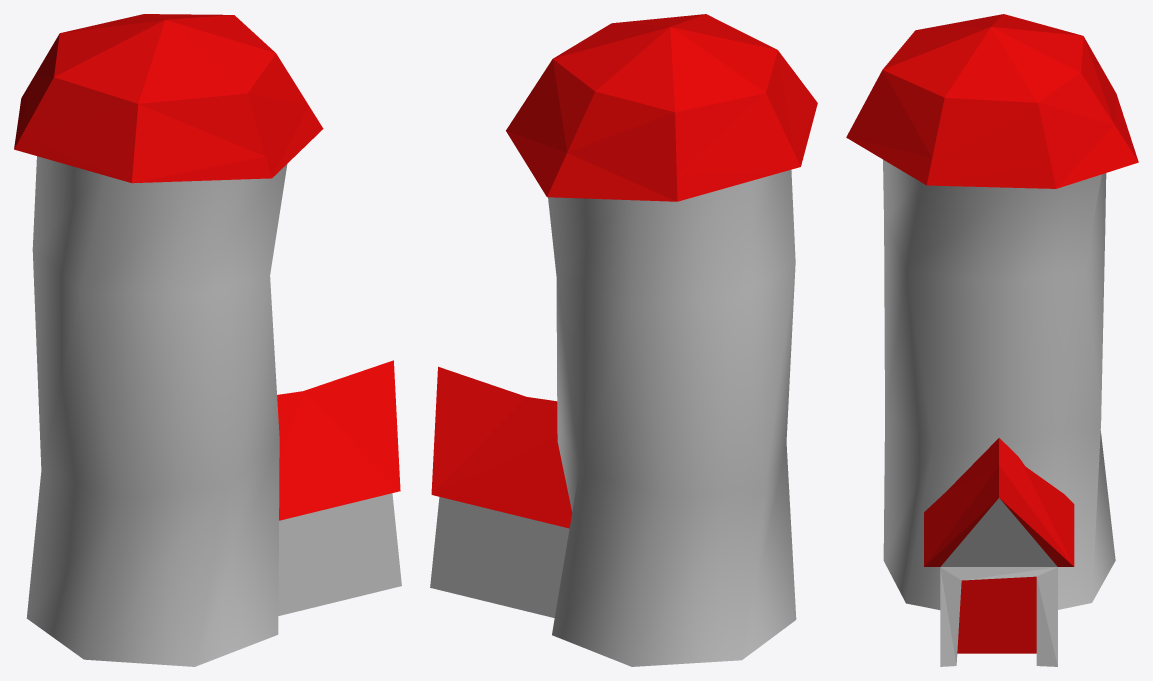
Rendered from Silo.fbx.
The picture shows the model from 3 angles, left to right: view 1: azimuth 30°, elevation 25°; view 2: azimuth 150°, elevation 25°; view 3: azimuth 270°, elevation 25°; orthographic projection. The views are drawn at different scales.
Parts seen in each view (by area): view 1: Silo; view 2: Silo; view 3: Silo.
Part boxes in pixels (box(x1,y1,x2,y2)): Silo: box(14, 14, 401, 666); Silo: box(430, 14, 817, 666); Silo: box(846, 14, 1138, 666).
Bounding box in the file's own units: 16.67 × 25.39 × 12.3.
